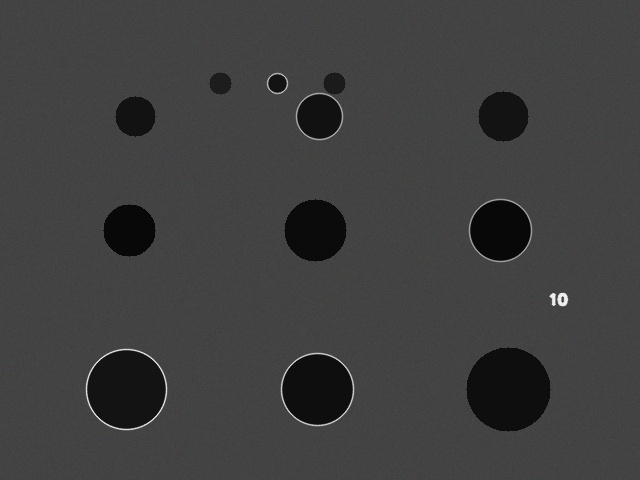hole: (466, 347, 550, 431), (86, 349, 166, 429), (281, 353, 353, 425), (284, 199, 346, 261), (469, 199, 531, 261), (103, 204, 155, 256), (478, 91, 528, 141), (296, 93, 342, 139), (115, 96, 155, 136), (209, 72, 231, 94), (323, 72, 345, 94), (267, 73, 287, 93)
